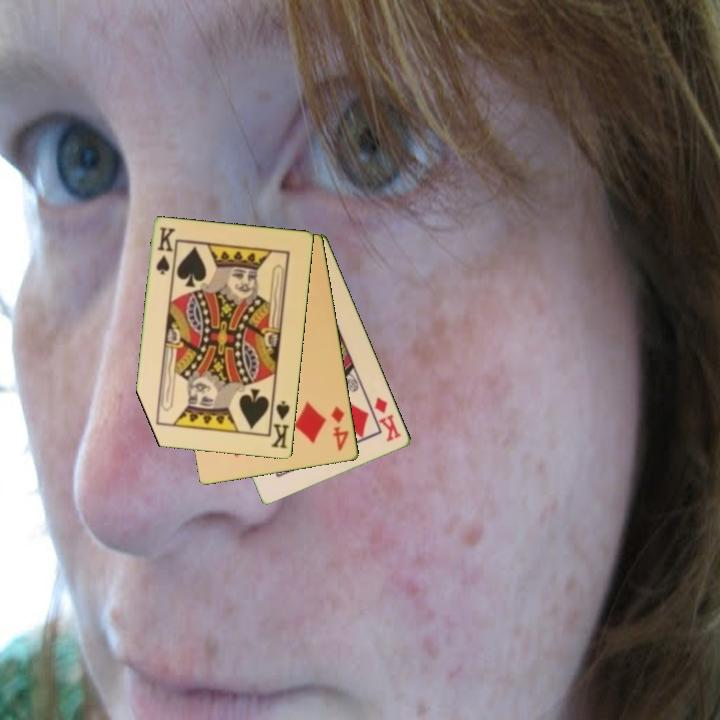4d: (328, 403, 352, 454)
Kd: (371, 393, 405, 445)
Ks: (267, 395, 293, 451), (153, 224, 178, 278)
